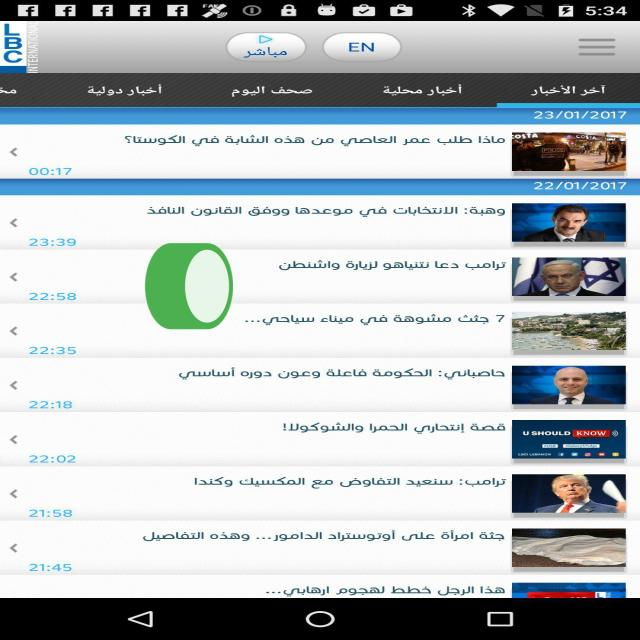social proof: (141, 210, 237, 369)
